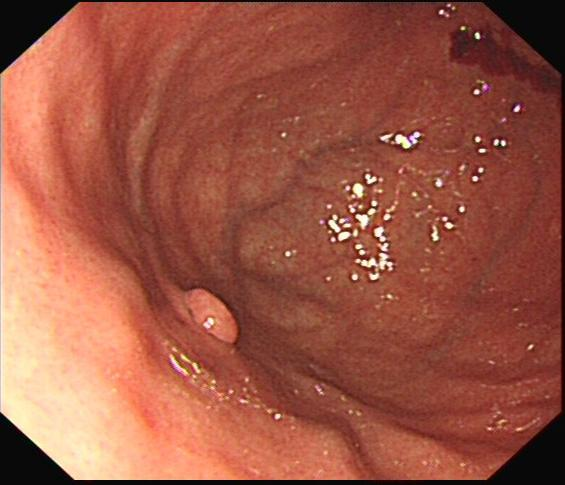Polyp: (172, 272, 247, 357)
